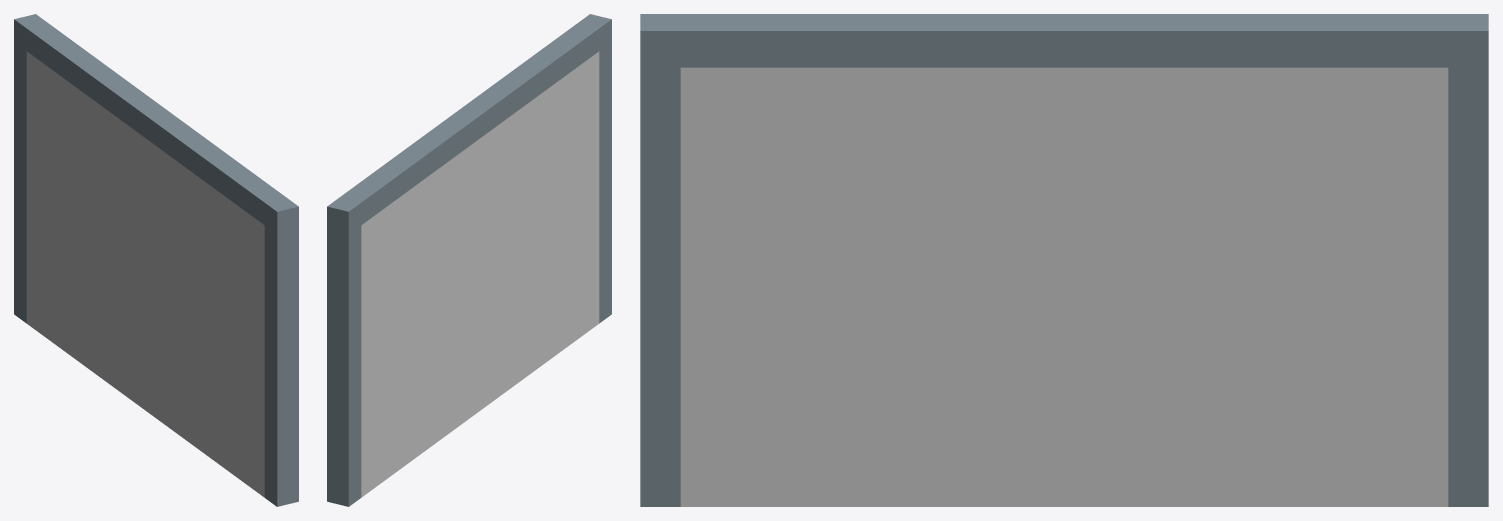
Rendered from short_wall.gltf.
3 renders of one model, left to right at view 1: azimuth 30°, elevation 25°; view 2: azimuth 150°, elevation 25°; view 3: azimuth 270°, elevation 25°, orthographic. The views are drawn at different scales.
Visible parts, largest first — view 1: Layer.2; view 2: Layer.2; view 3: Layer.2.
Part boxes in pixels (<box>): Layer.2: <box>14,14,298,506</box>; Layer.2: <box>327,14,611,506</box>; Layer.2: <box>640,14,1488,506</box>.
Bounding box in the file's own units: 1 × 13 × 21.
